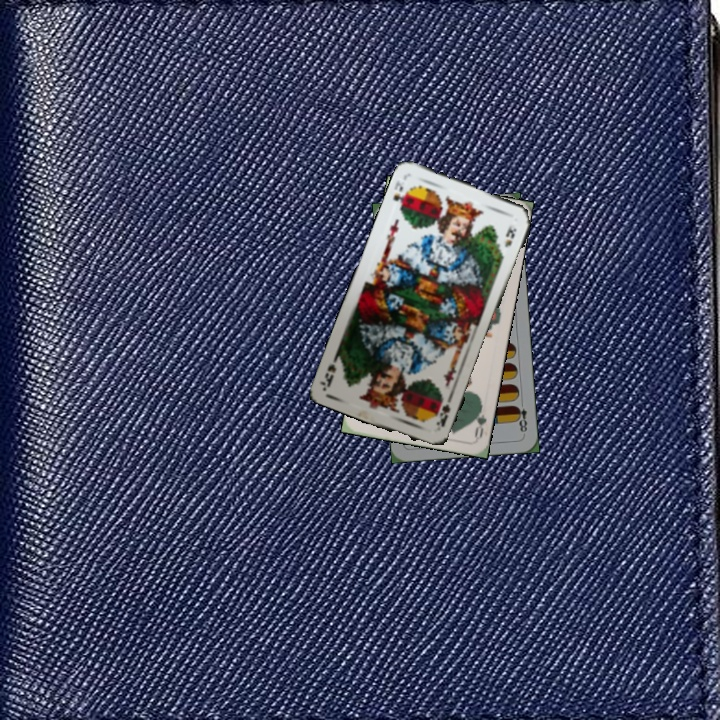E8: (512, 396, 529, 437)
GO: (468, 399, 489, 441)
SK: (389, 178, 413, 213), (432, 393, 453, 430)
